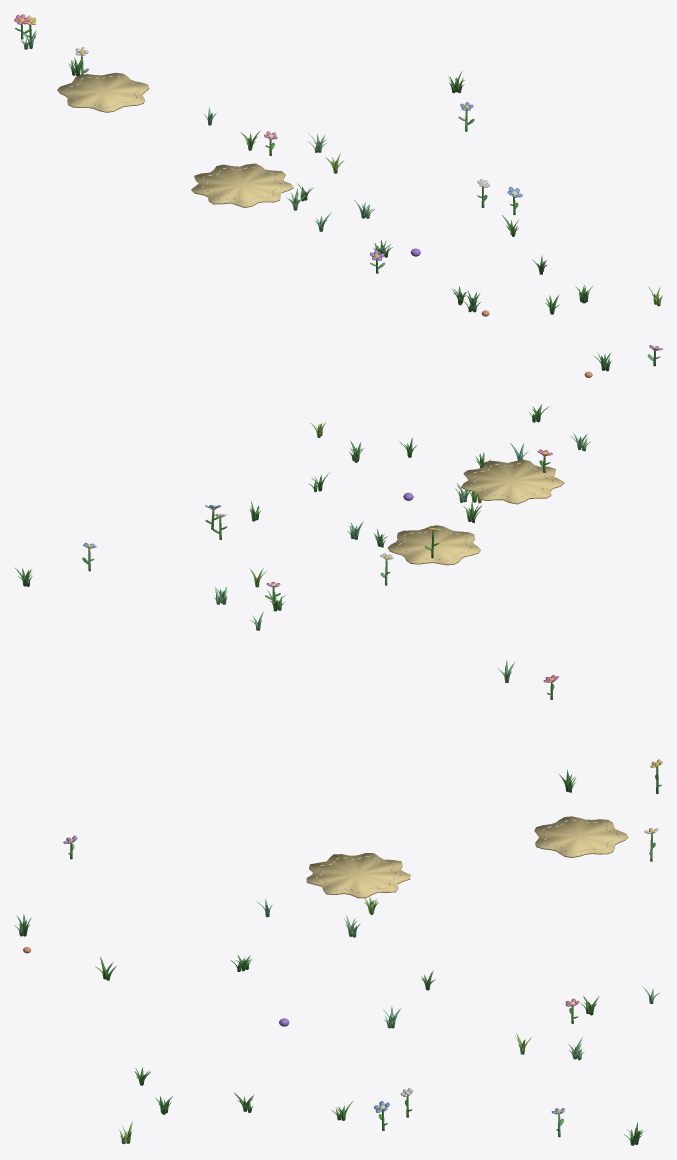
File: W1_FloraRing_11_9.fbx
3 views of the same model, one above another, from view 1: azimuth 30°, elevation 25°; view 2: azimuth 150°, elevation 25°; view 3: azimuth 270°, elevation 25° (orthographic). The views are drawn at different scales.
Parts seen in each view (by area): view 1: W1_FloraRing_11_9; view 2: W1_FloraRing_11_9; view 3: W1_FloraRing_11_9.
Part boxes in pixels (box(x1,y1,x2,y2)): W1_FloraRing_11_9: box(14, 14, 662, 316); W1_FloraRing_11_9: box(14, 345, 662, 630); W1_FloraRing_11_9: box(14, 659, 662, 1145).
Size of the model in its own units: 3.77 by 1.76 by 4.03.
